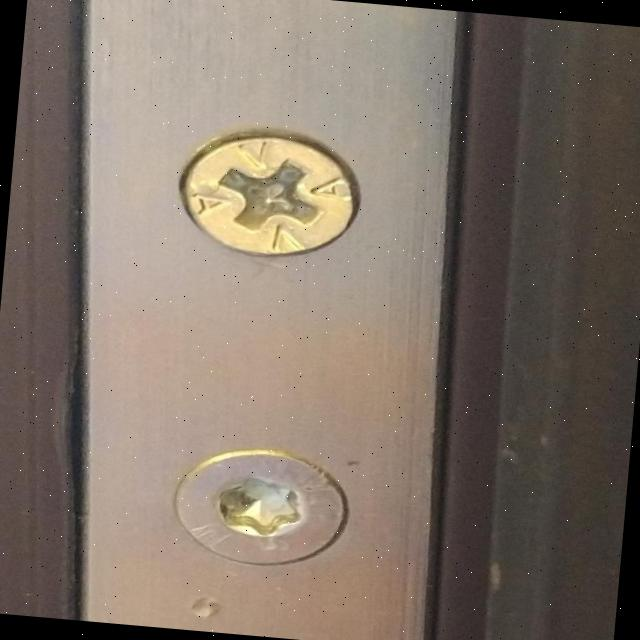Phillips: (148, 114, 380, 268)
Torx: (152, 431, 352, 588)
